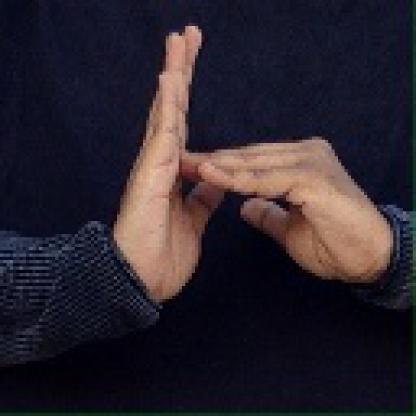Z: (114, 23, 368, 300)
